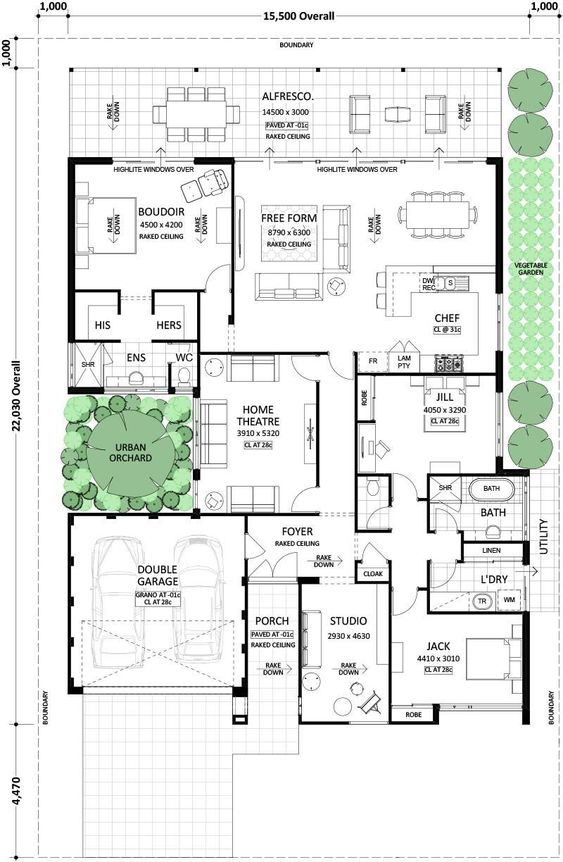door: (289, 353, 318, 382), (327, 352, 356, 381), (288, 483, 317, 512), (430, 563, 461, 590), (390, 590, 421, 617), (202, 263, 231, 290), (391, 471, 421, 497), (431, 505, 461, 531), (364, 506, 389, 530)
room: (68, 157, 233, 291), (353, 372, 503, 476), (387, 609, 529, 713)
